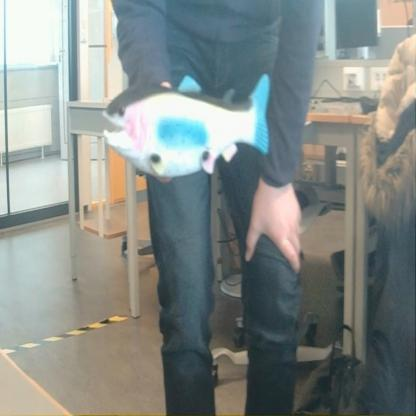rubberfish: (100, 64, 274, 184)
